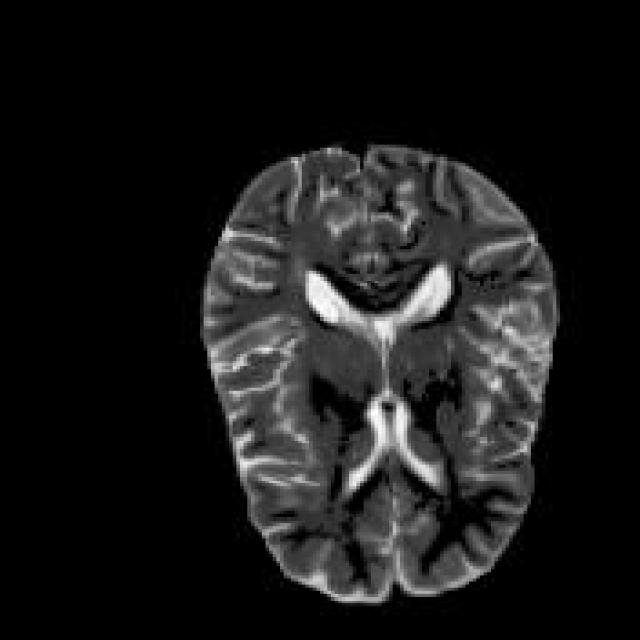CONTROL: (196, 139, 560, 603)
